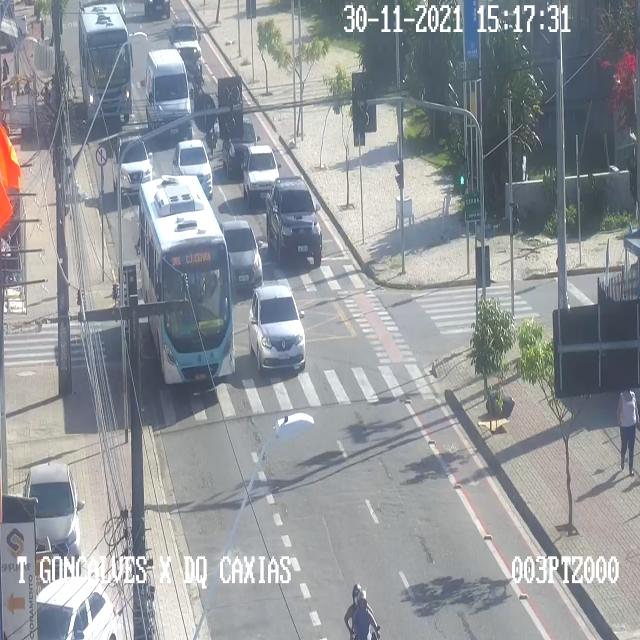Bus: (138, 175, 234, 383), (78, 4, 131, 120)
Car: (24, 463, 80, 573), (36, 576, 116, 639), (248, 284, 305, 370), (266, 179, 322, 264), (146, 49, 192, 139), (218, 220, 262, 287), (112, 135, 152, 195), (172, 138, 212, 196), (243, 144, 279, 203), (221, 116, 257, 174), (168, 18, 202, 74), (144, 1, 172, 19)
Motorcycle: (344, 584, 380, 639), (192, 65, 204, 108), (206, 110, 217, 156)
